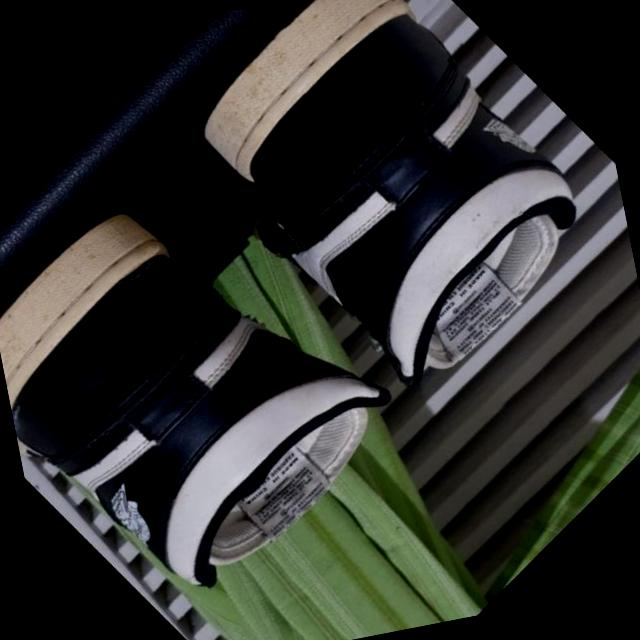nike_fake_jordan: (0, 114, 449, 640), (142, 0, 640, 443)
